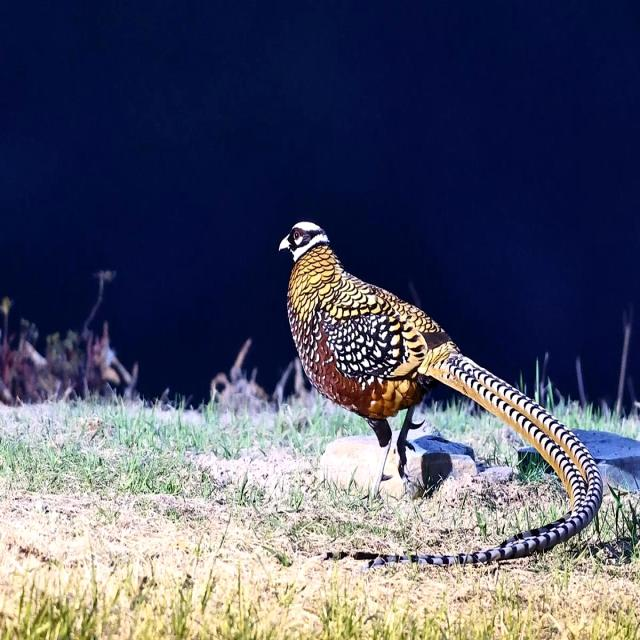Reeves-s Pheasant: (351, 353, 604, 567)
